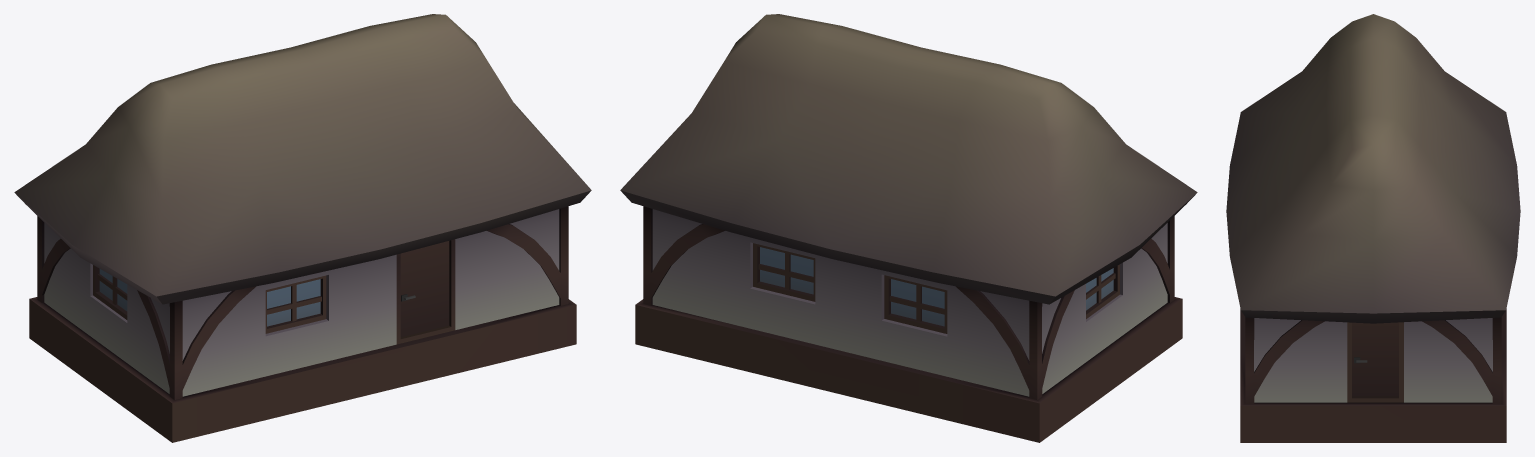
Rendered from buildings-historical-medievalcottage_v3.glb.
3 renders of one model, left to right at view 1: azimuth 30°, elevation 25°; view 2: azimuth 150°, elevation 25°; view 3: azimuth 270°, elevation 25°, orthographic. The views are drawn at different scales.
Visible parts, largest first — view 1: MedievalCottage_v3_base, MedievalCottage_v3_windowRefl; view 2: MedievalCottage_v3_base, MedievalCottage_v3_windowRefl; view 3: MedievalCottage_v3_base.
Part boxes in pixels (x1,y1,x2,y2): MedievalCottage_v3_base: [14, 14, 591, 442]; MedievalCottage_v3_windowRefl: [99, 269, 320, 326]; MedievalCottage_v3_base: [620, 14, 1197, 442]; MedievalCottage_v3_windowRefl: [760, 247, 1113, 326]; MedievalCottage_v3_base: [1226, 14, 1520, 442].
Size of the model in its own units: 12.9 by 7.85 by 7.64.
